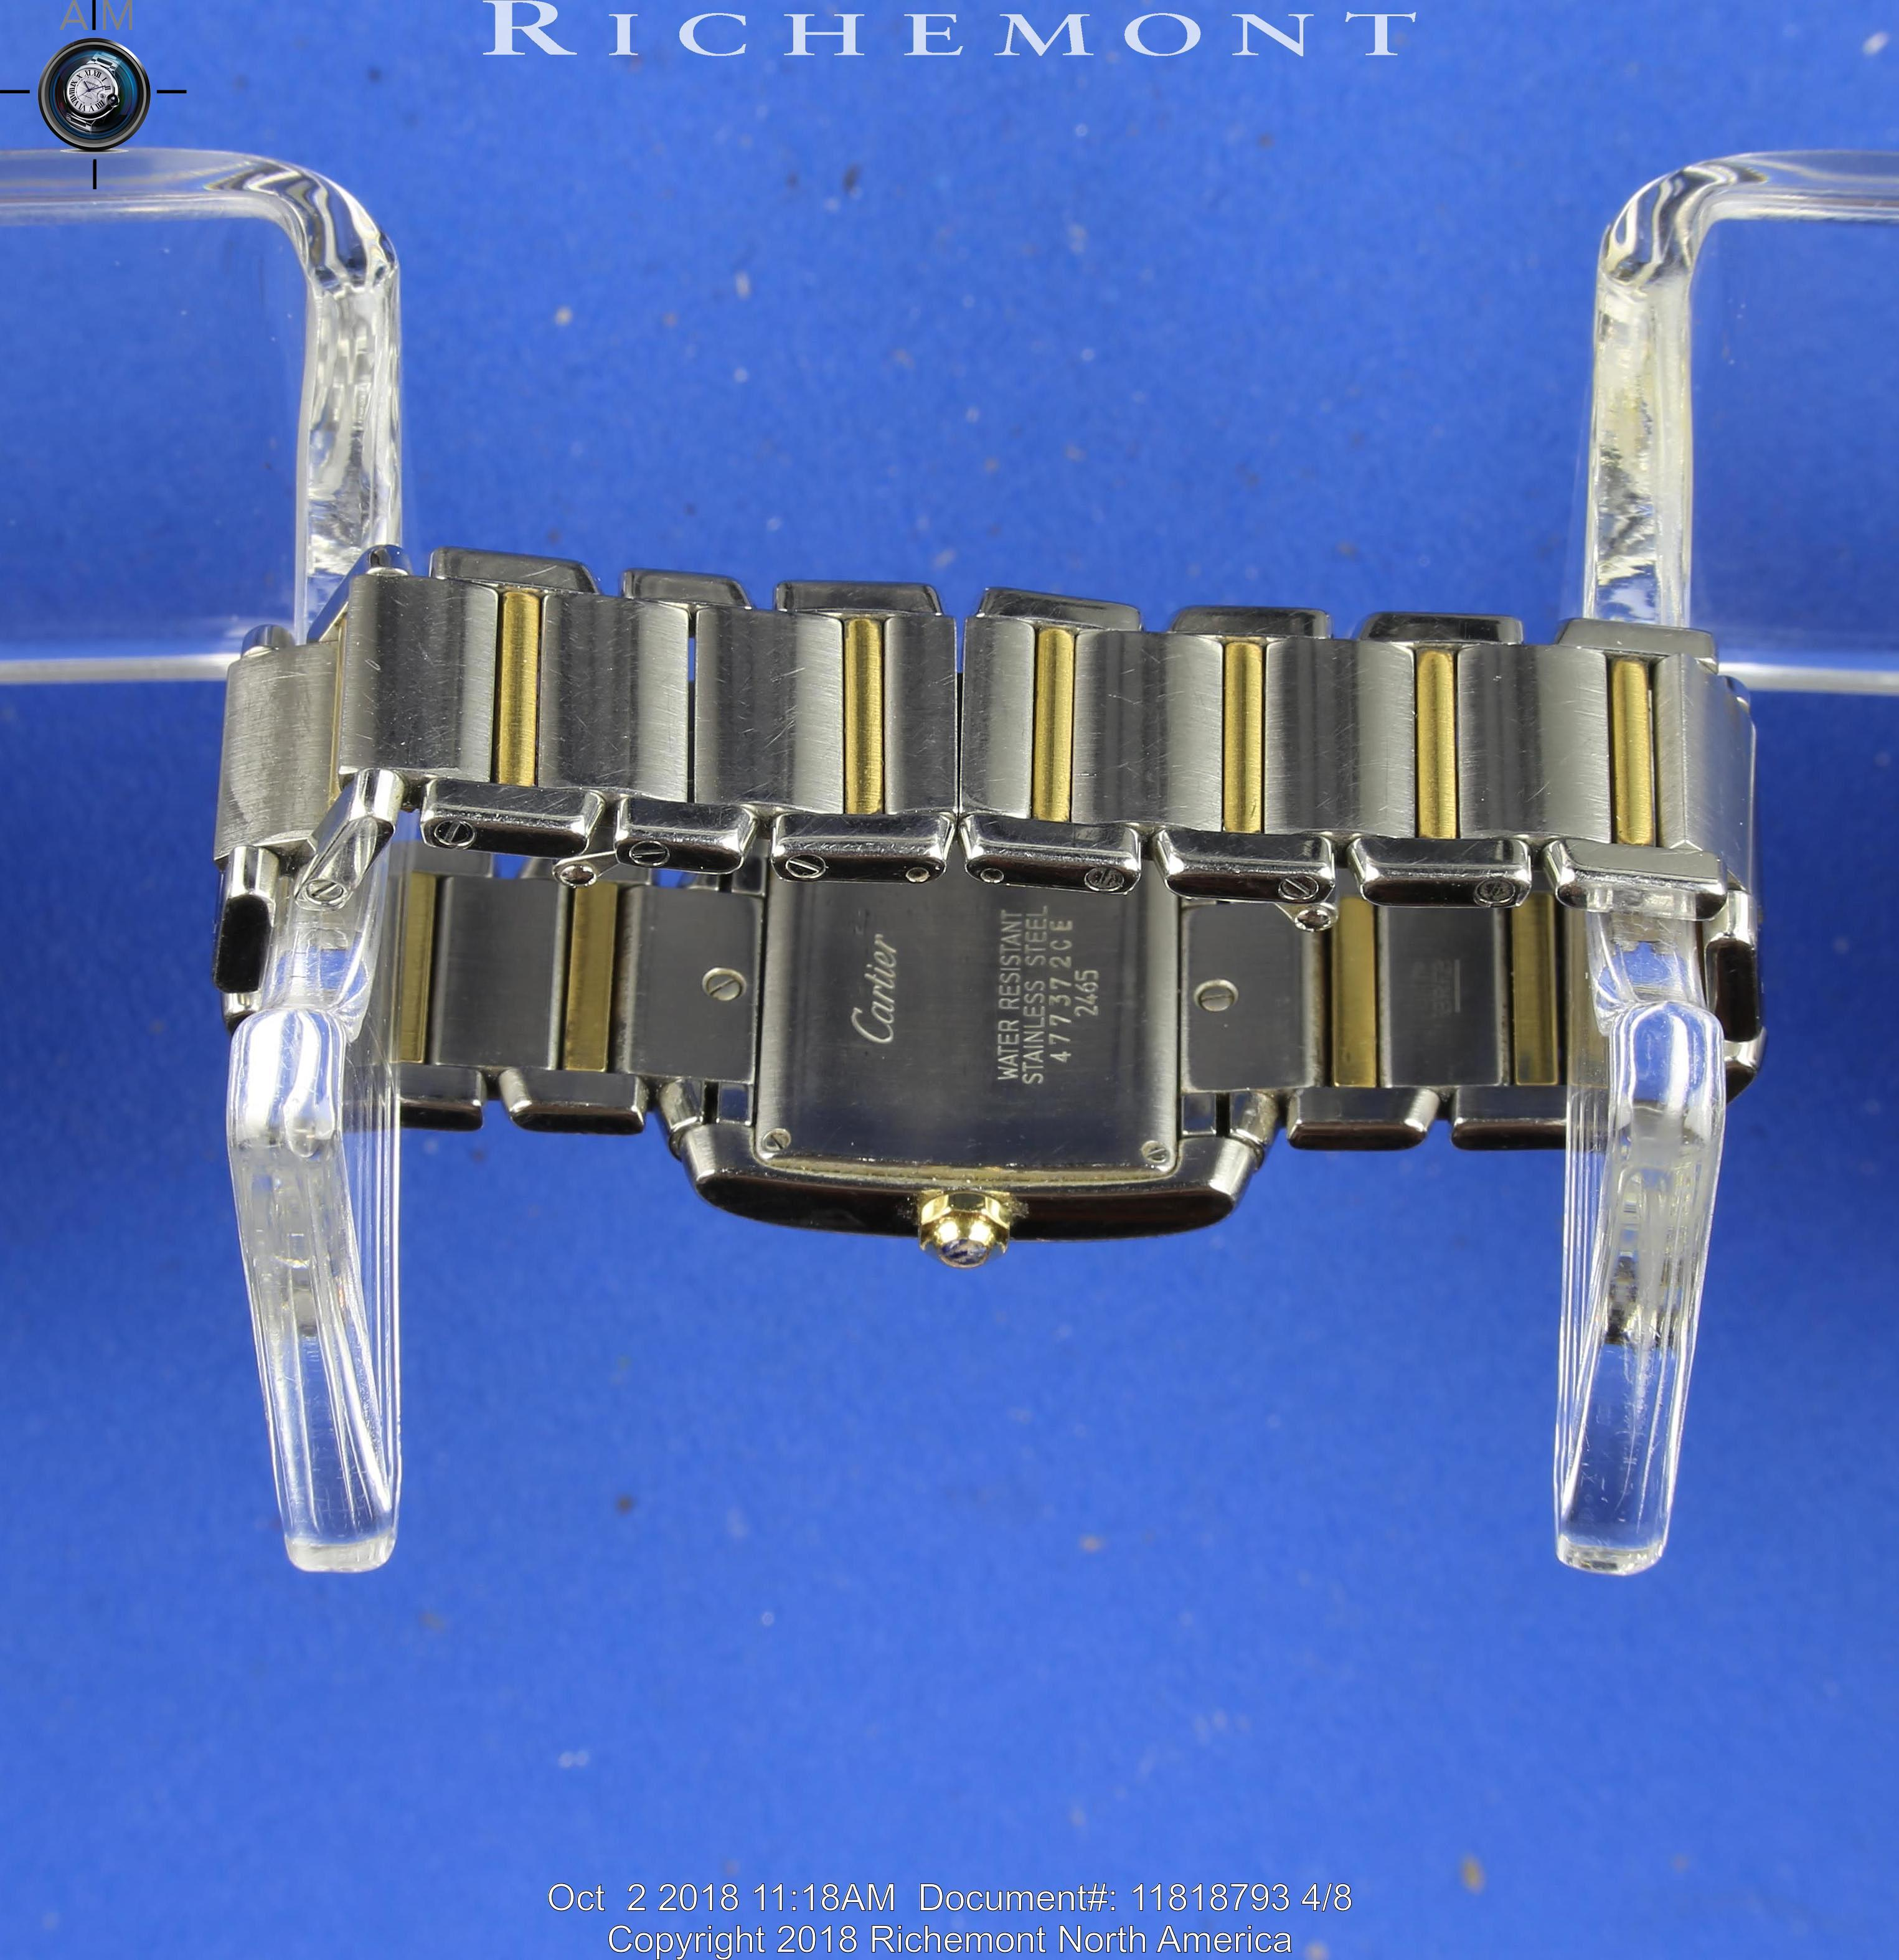watchback: (739, 836, 1232, 1165)
